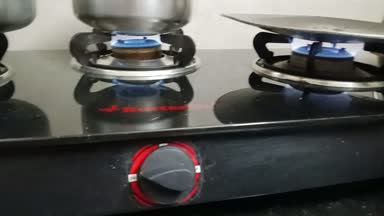flame_gas_on: (69, 22, 210, 213), (250, 26, 383, 91)
